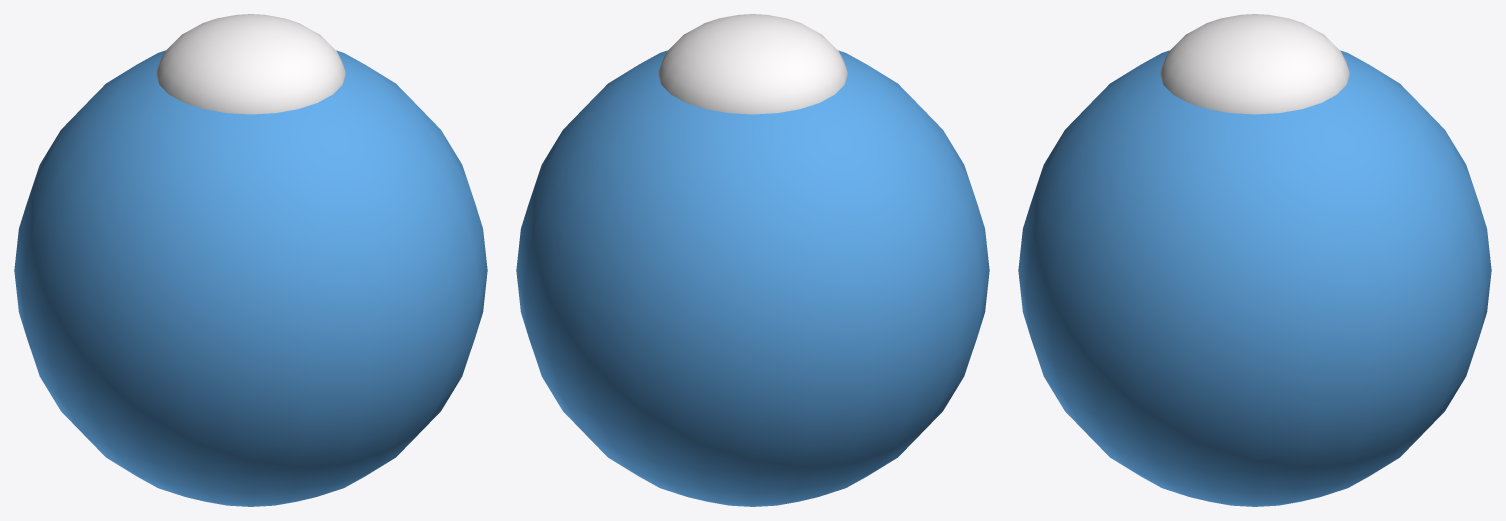
File: earth.glb
3 views of the same model, side by side, from view 1: azimuth 30°, elevation 25°; view 2: azimuth 150°, elevation 25°; view 3: azimuth 270°, elevation 25° (orthographic).
Visible parts, largest first — view 1: ocean_node, ice_node; view 2: ocean_node, ice_node; view 3: ocean_node, ice_node.
Part boxes in pixels (box(x1,y1,x2,y2)): ocean_node: box(14, 50, 487, 506); ice_node: box(156, 14, 345, 114); ocean_node: box(516, 50, 989, 506); ice_node: box(658, 14, 847, 114); ocean_node: box(1018, 50, 1491, 506); ice_node: box(1160, 14, 1349, 114).
Size of the model in its own units: 2 by 2.13 by 2.
